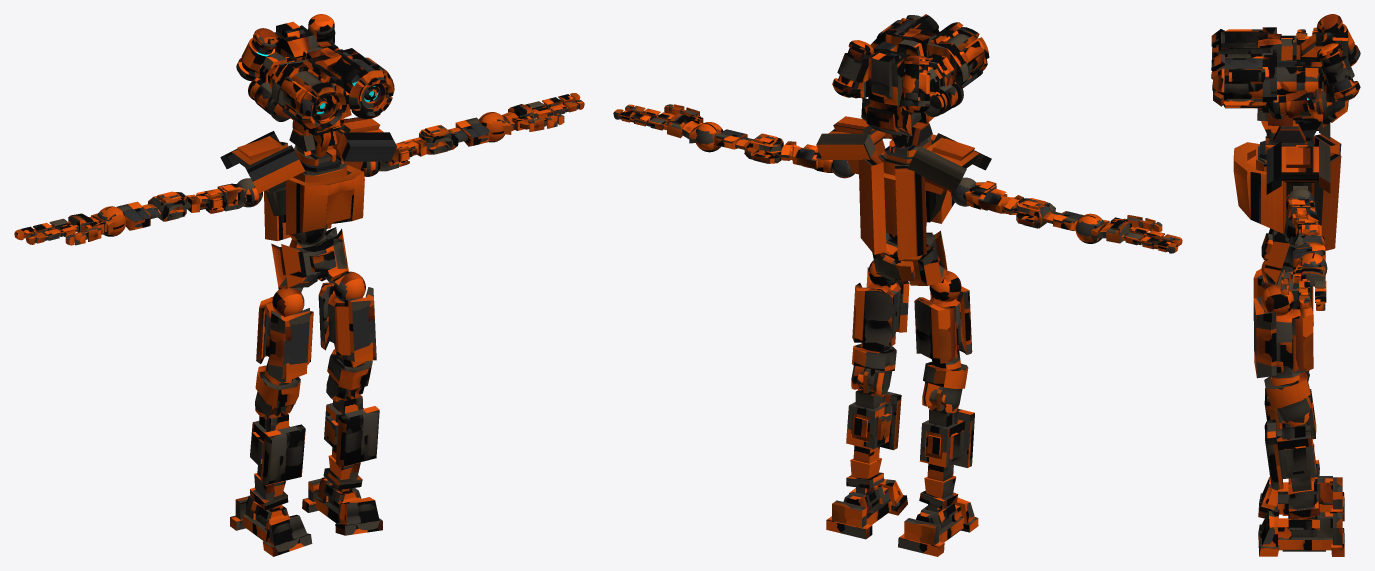
File: animated_humanoid_robot.obj
The picture shows the model from 3 angles, left to right: view 1: azimuth 30°, elevation 25°; view 2: azimuth 150°, elevation 25°; view 3: azimuth 270°, elevation 25°; orthographic projection.
Parts seen in each view (by area): view 1: legs, head, torso, arms, hinge; view 2: legs, torso, head, arms, hinge; view 3: legs, head, torso, arms, hinge.
Boxes of the visible parts, x1,y1,x2,y2 form: legs: [230, 271, 382, 556]; head: [236, 14, 394, 157]; torso: [220, 117, 396, 241]; arms: [14, 93, 584, 245]; hinge: [271, 225, 350, 292]; legs: [826, 260, 978, 556]; torso: [816, 116, 991, 260]; head: [832, 14, 989, 147]; arms: [613, 104, 1182, 253]; hinge: [872, 223, 948, 285]; legs: [1253, 260, 1344, 556]; head: [1211, 14, 1360, 144]; torso: [1233, 121, 1341, 250]; arms: [1280, 27, 1327, 310]; hinge: [1261, 220, 1298, 291].
Size of the model in its own units: 14.97 by 12.52 by 3.39.
Materials: 6 (6 with a texture image).
